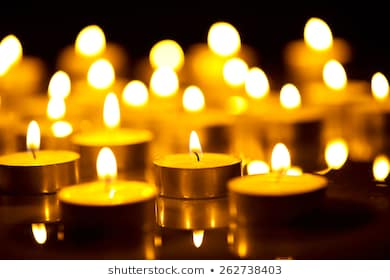Fire: (302, 17, 337, 51), (148, 38, 184, 71), (207, 21, 241, 54), (1, 33, 24, 78), (75, 24, 107, 55), (85, 59, 116, 89), (322, 60, 351, 90), (121, 80, 151, 106), (93, 146, 118, 177), (323, 140, 350, 168), (245, 69, 270, 99), (46, 69, 71, 97), (278, 82, 304, 108), (223, 59, 247, 87), (182, 86, 206, 113), (270, 142, 292, 170), (370, 153, 390, 181), (103, 94, 121, 125), (244, 156, 270, 177), (371, 70, 389, 100), (186, 129, 203, 159), (45, 100, 70, 120), (24, 121, 41, 150), (48, 121, 75, 139), (29, 222, 50, 245), (190, 228, 206, 249)
